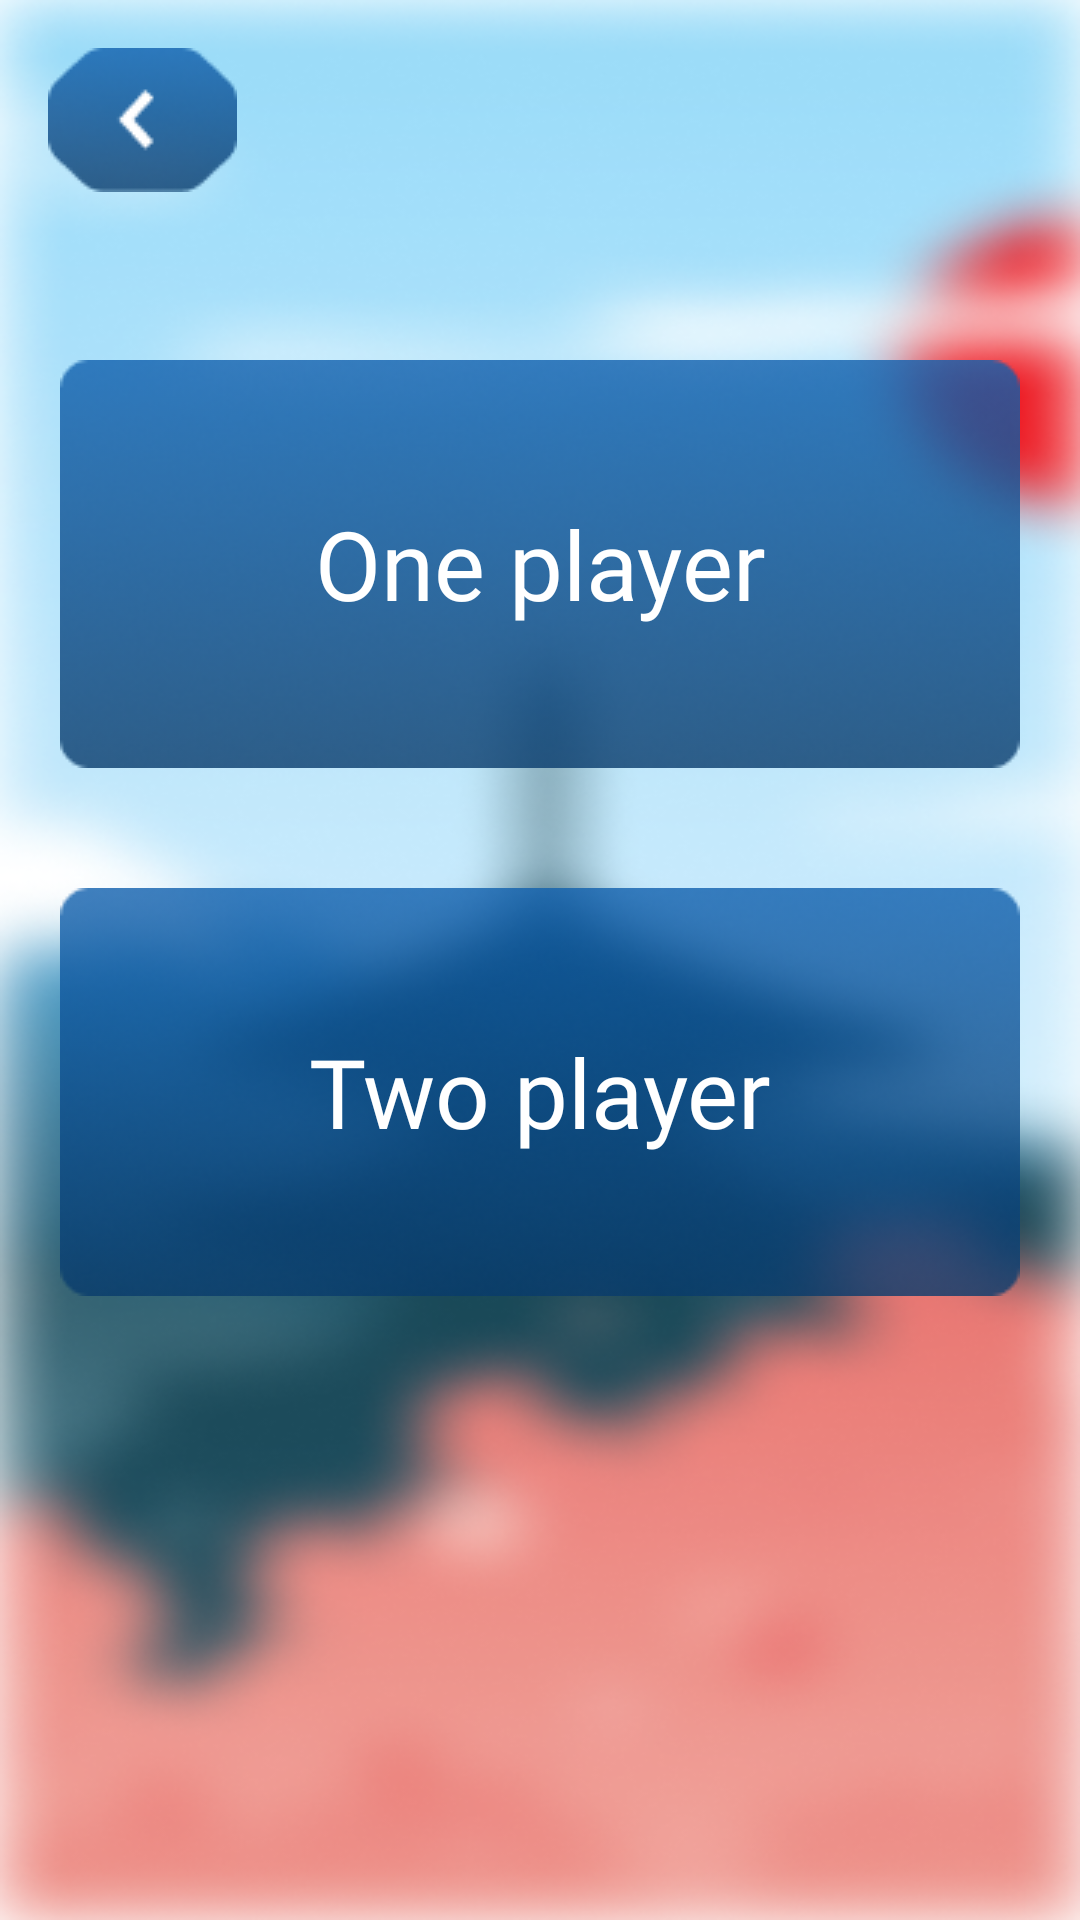

Screen size 1080×1920. Icon name, then its box in pixels as {"x1": x1, "y1": y1, "x2": x2, "y2": y2}:
back: {"x1": 48, "y1": 48, "x2": 237, "y2": 192}
